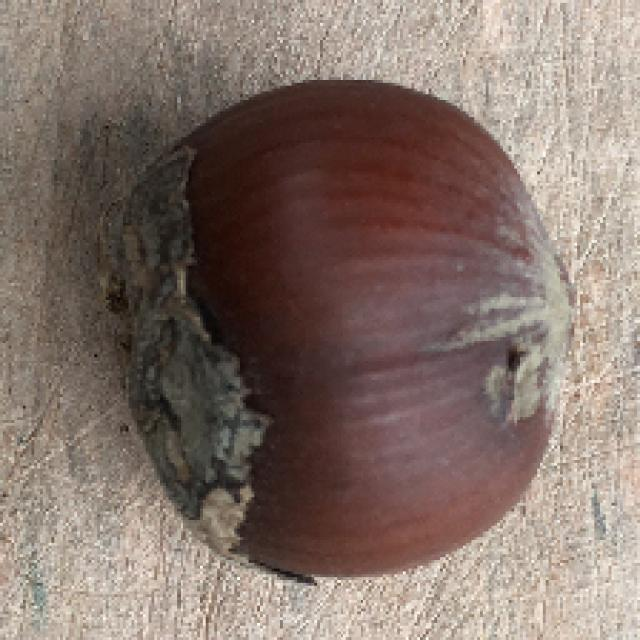damagedHazelnut: (110, 80, 574, 578)
